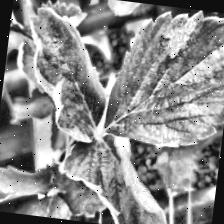Powdery Mildew Leaf: (99, 0, 224, 153), (14, 4, 117, 146), (55, 127, 184, 224), (12, 38, 50, 94), (99, 0, 173, 23), (7, 22, 35, 51)
